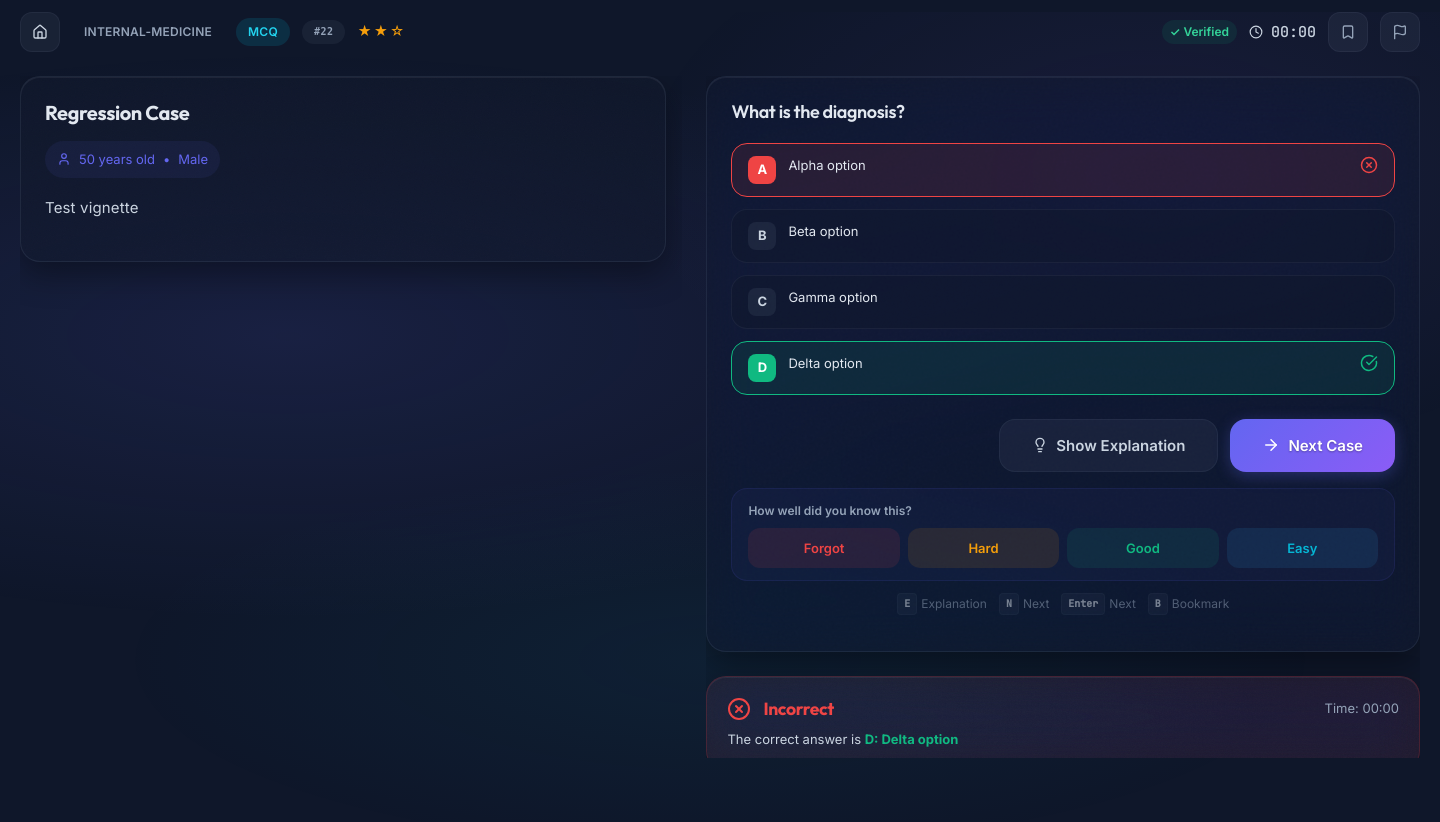
case player FSRS regression coverage › hides blank distractor copy and never renders the correct option as a wrong heading
Click the button "Show Explanation": (1109,445) [999,419,1218,472]
(page scrolled)
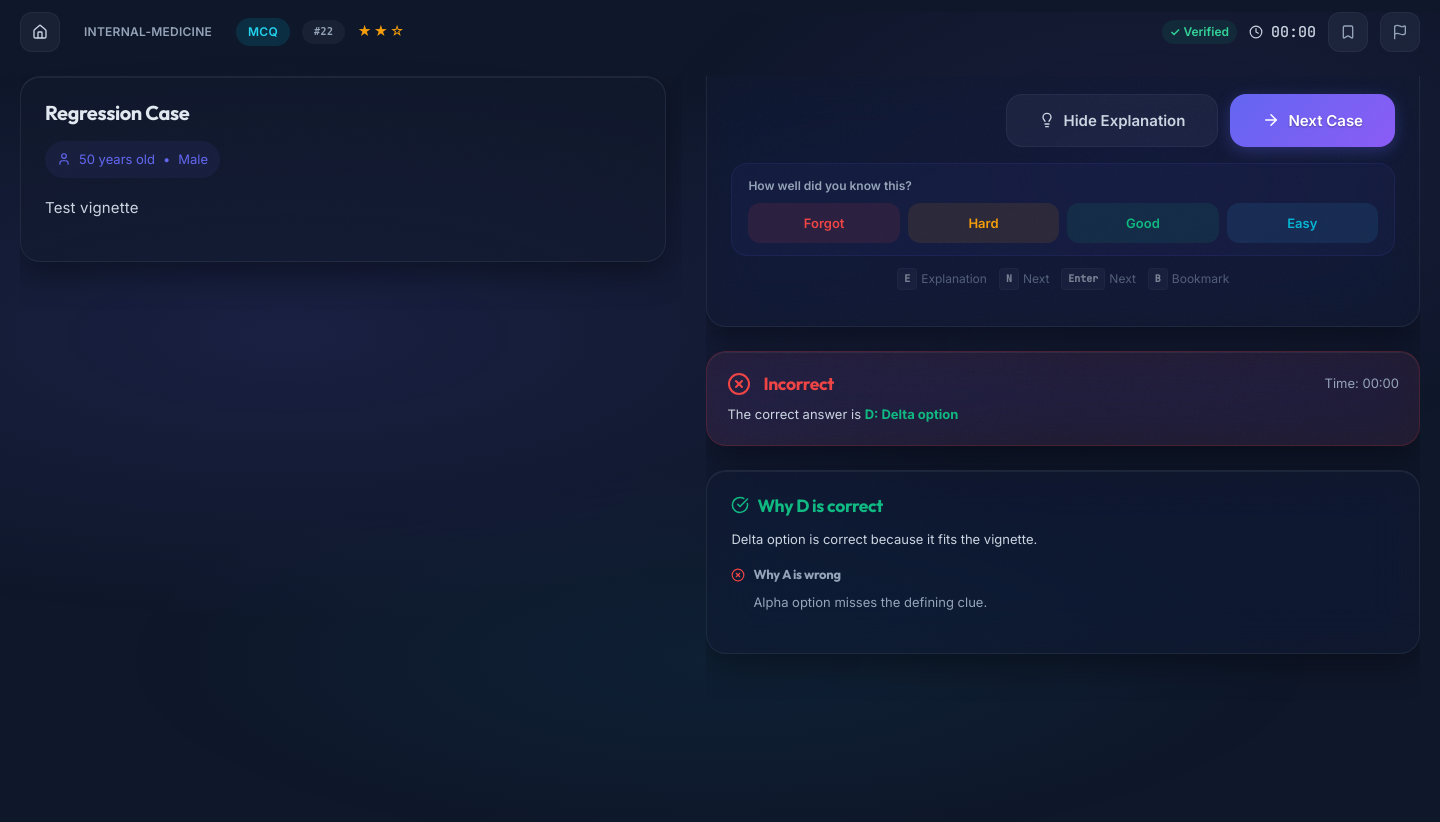
Expected: the heading "Why A is wrong" is shown, [731,566,841,582]
